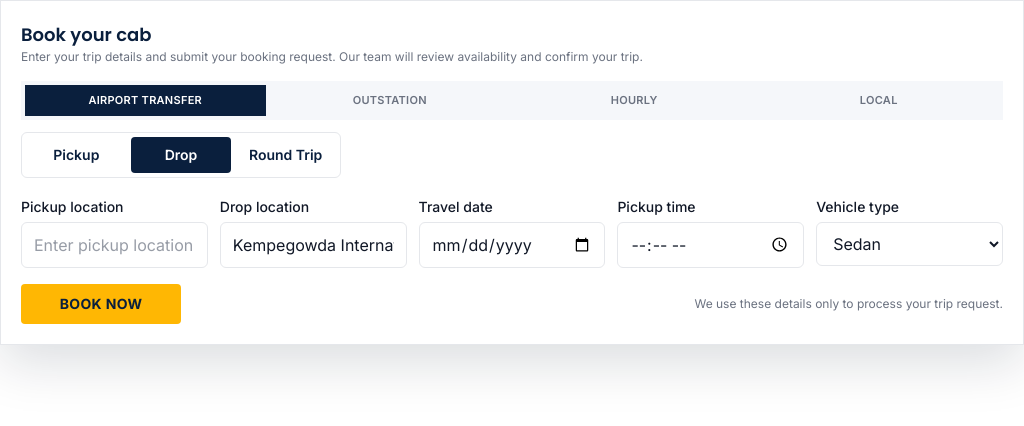
Test case: authenticated booking › does not show false success or double submit on API failure
Type "MG Road" into the field labelled "Pickup location".
click(114, 245); type("MG Road")  # box left=21, top=222, right=208, bottom=268
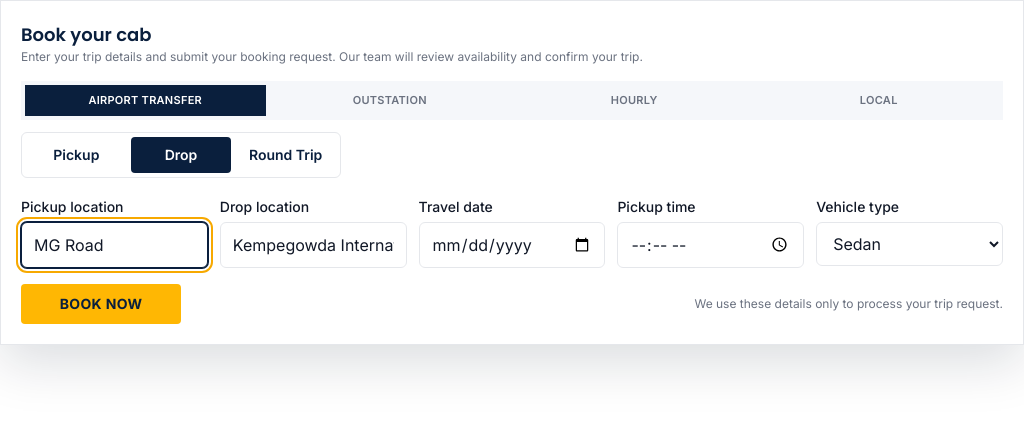
Type "2026-09-10" into the date field labelled "Travel date".
click(512, 245); type("2026-09-10")  # box left=419, top=222, right=605, bottom=268
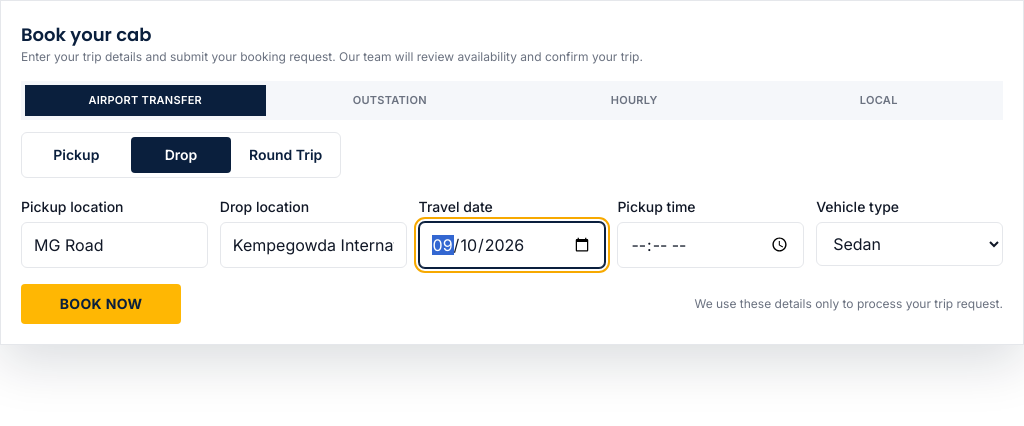
Type "10:00" into the time field labelled "Pickup time".
click(711, 245); type("10:00")  # box left=617, top=222, right=804, bottom=268
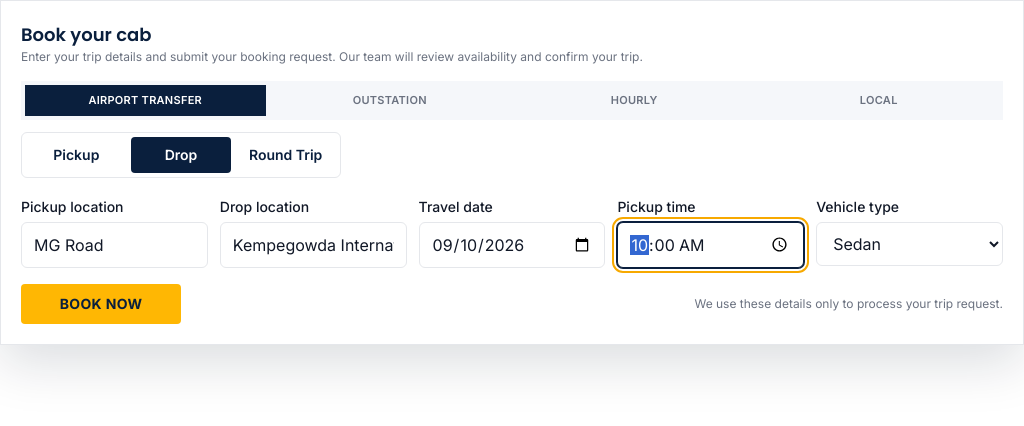
Double-click the button "Book now".
double_click(101, 304)  # box left=21, top=284, right=181, bottom=324
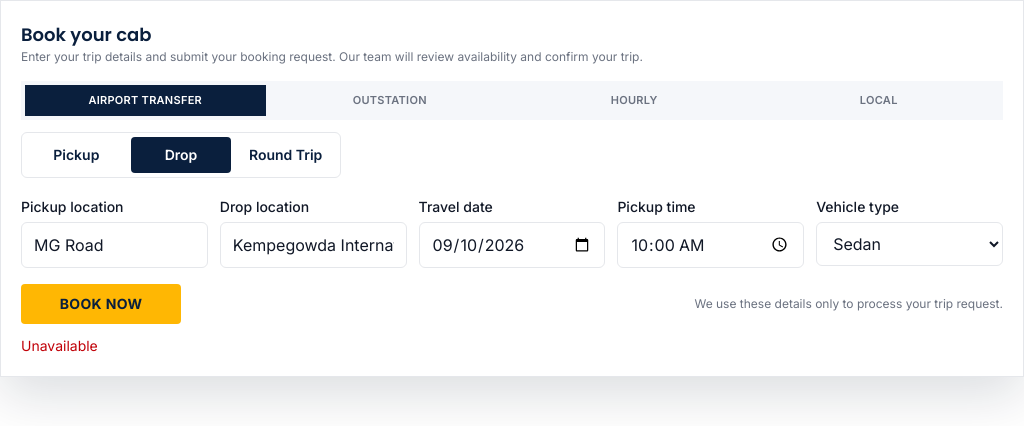
Check: the message reads "Unavailable", box left=21, top=337, right=98, bottom=354
